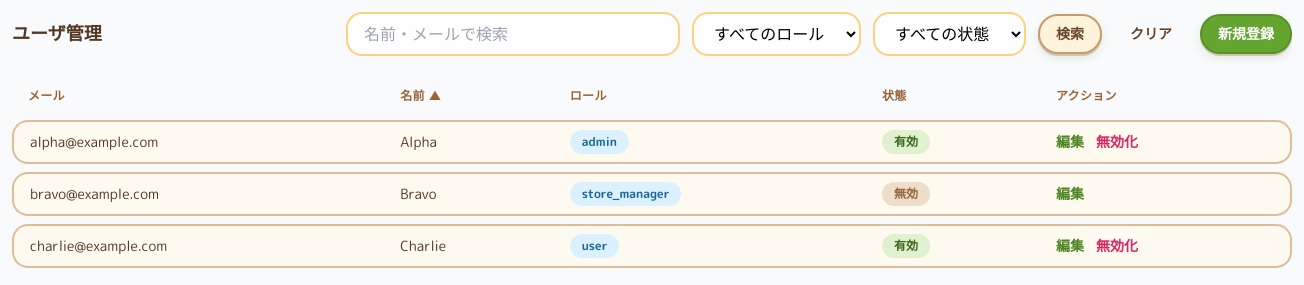
Test: UserManagementPanel 検索・絞り込み・ソート › 検索ボタンを押すと有効/無効で絞り込まれる
The width and height of the screenshot is (1304, 285).
Expected: the text "Charlie" is shown, [384,224,554,268]
Select "無効" in the 2nd dropdown showing "すべての状態": (950, 34) [873,12,1026,56]
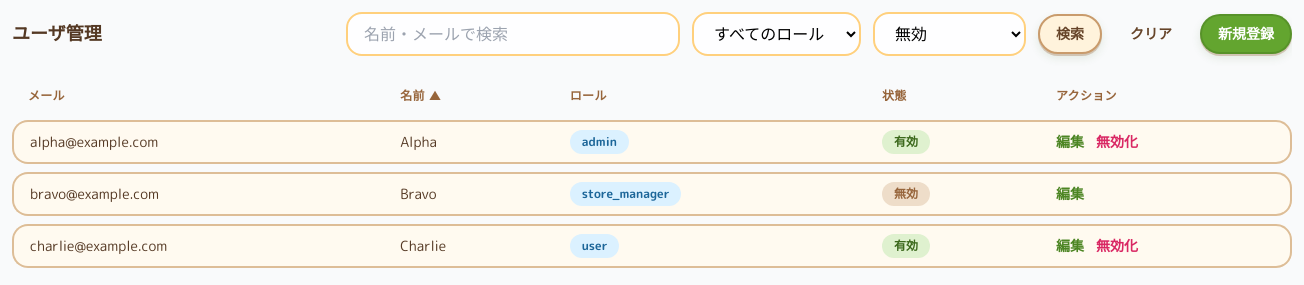
Click the button "検索": (1070, 34) [1038,14,1102,54]
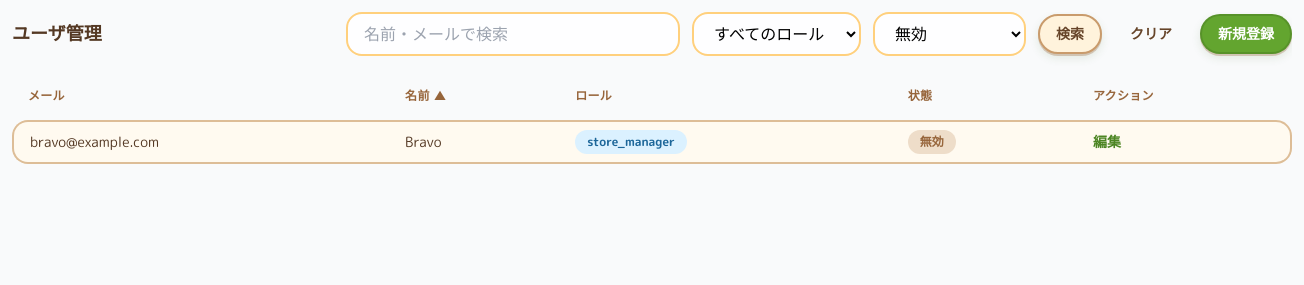
Expected: the text "Bravo" is shown, [389,120,559,164]
Result: the text "charlie" is gone
Result: the text "alpha" is gone
